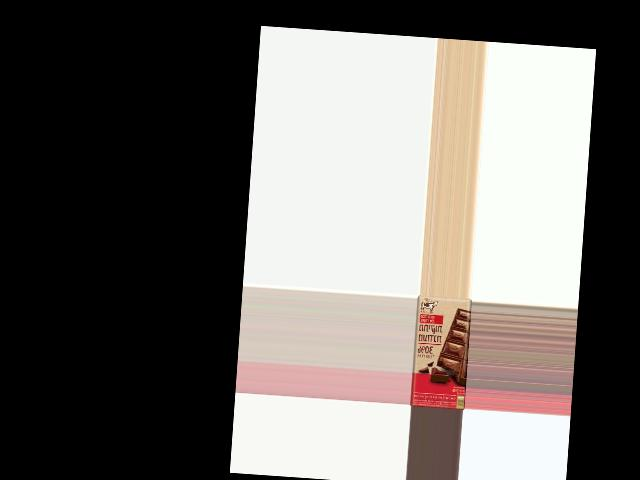chocolate: (409, 295, 471, 409)
